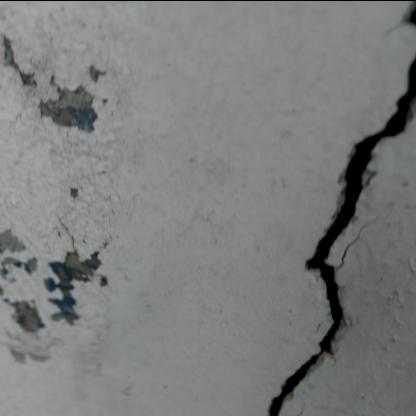crack: (267, 54, 416, 416)
